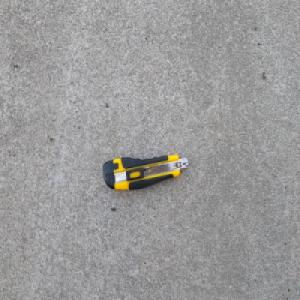Cutter: (102, 153, 188, 191)
